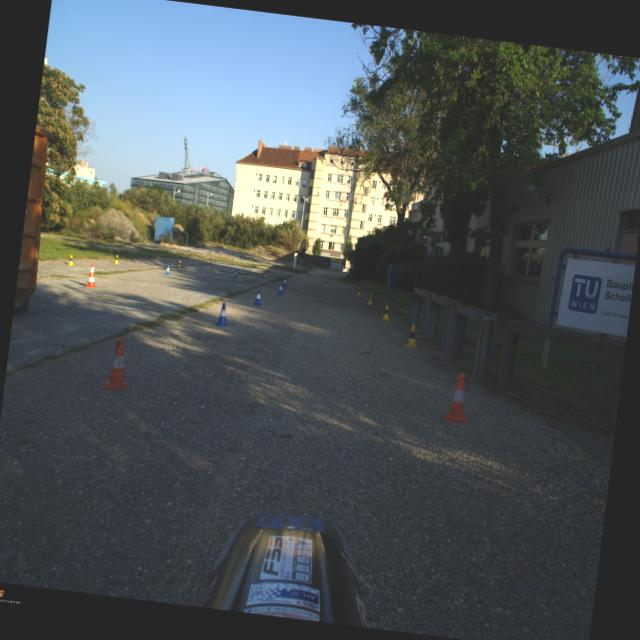blue_cone: (215, 302, 230, 326), (253, 288, 263, 306), (276, 282, 284, 295), (282, 276, 288, 286), (164, 264, 170, 274), (232, 270, 238, 278)
large_orange_cone: (84, 262, 100, 288)
orange_cone: (440, 371, 476, 426), (102, 336, 134, 392)
yellow_cone: (404, 324, 419, 349), (381, 304, 391, 321), (366, 292, 374, 305), (67, 254, 74, 265), (356, 286, 363, 296), (114, 254, 120, 264), (323, 278, 328, 286), (264, 269, 268, 277), (178, 260, 182, 268)
